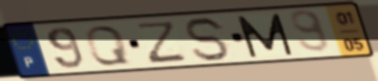9: (291, 8, 334, 57), (45, 26, 87, 71)
M: (235, 12, 297, 60)
Q: (83, 24, 133, 67)
S: (184, 16, 233, 64)
Z: (137, 19, 189, 65)
